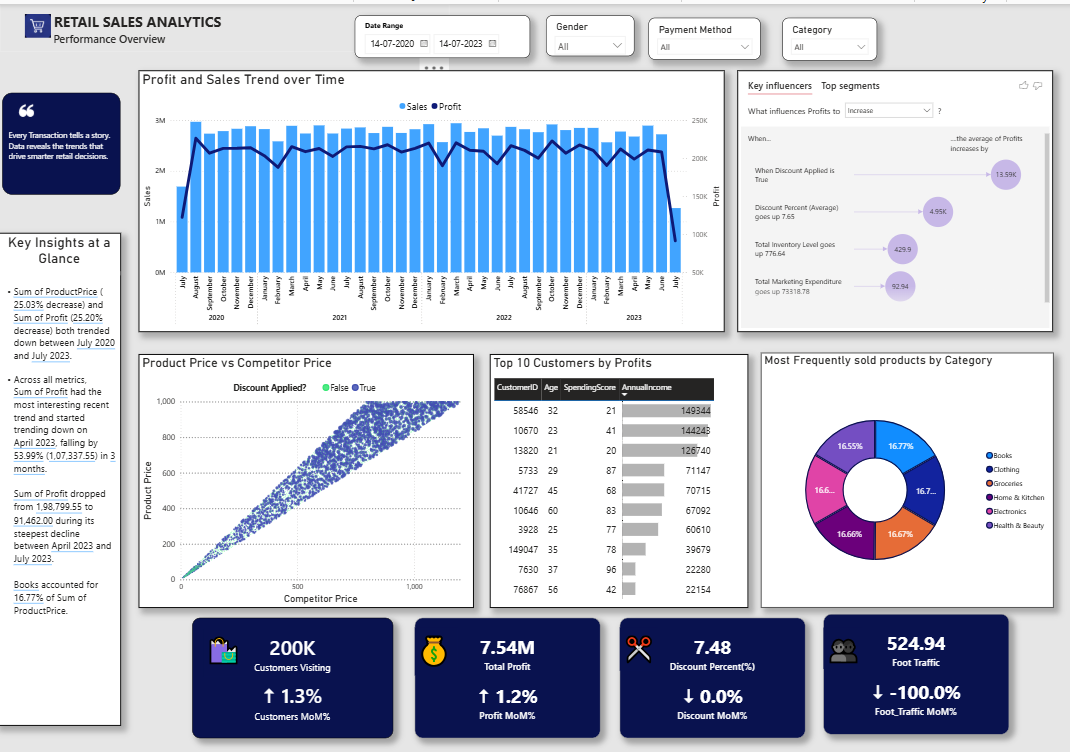

Layout of this report page (visuals, bound fields, positions):
{"tool":"powerbi","page":{"name":"Page 1","canvas":[1850,1300],"ordinal":0},"visuals":[{"type":"textbox","box":[11.7,151.7,203.3,175],"z":0},{"type":"textbox","box":[7.2,0,773.3,82],"z":1000},{"type":"image","box":[47.1,17.1,49.5,41],"z":2000},{"type":"image","box":[33.3,163.3,38.3,36.7],"z":3000},{"type":"slicer","fields":{"Values":["retail_data[1].PurchaseDate"]},"box":[616.7,18.3,301.7,73.3],"z":4000},{"type":"slicer","fields":{"Values":["retail_data[1].Gender"]},"box":[945,20,151.7,70],"z":5000},{"type":"slicer","fields":{"Values":["retail_data[1].PaymentMethod"]},"box":[1121.7,23.3,193,72.4],"z":6000},{"type":"slicer","fields":{"Values":["retail_data[1].ProductCategory"]},"box":[1351.7,23.3,162.9,73.6],"z":7000},{"type":"lineClusteredColumnComboChart","title":"Profit and Sales Trend over Time","fields":{"Y":["Sum(retail_data[1].ProductPrice)"],"Y2":["Sum(retail_data[1].Profit)"],"Category":["retail_data[1].PurchaseDate.Variation.Date Hierarchy.Year","retail_data[1].PurchaseDate.Variation.Date Hierarchy.Month"]},"box":[245,113.3,1008.3,450],"z":8000},{"type":"donutChart","title":"Most Frequently sold products by Category","fields":{"Y":["Sum(retail_data[1].ProductPrice)"],"Category":["retail_data[1].ProductCategory"]},"box":[1315,600,503.3,438.3],"z":9000},{"type":"scatterChart","title":"Product Price vs Competitor Price","fields":{"X":["retail_data[1].CompetitorPrice"],"Y":["retail_data[1].ProductPrice"],"Size":["Avg(retail_data[1].Profit)"],"Series":["retail_data[1].DiscountApplied"]},"box":[245,601.7,576.7,436.7],"z":10000},{"type":"keyDriversVisual","title":"Top 10 Stores by Profits","fields":{"ExplainBy":["Sum(retail_data[1].MarketingExpenditure)","Avg(retail_data[1].DiscountPercent)","Sum(retail_data[1].InventoryLevel)","retail_data[1].DiscountApplied","retail_data[1].StoreID"],"Target":["retail_data[1].Profit"],"Details":["retail_data[1].ProductCategory"]},"box":[1275,113.3,543.3,450],"z":11000},{"type":"tableEx","title":"Top 10 Customers by Profits","fields":{"Values":["retail_data[1].CustomerID","retail_data[1].Age","retail_data[1].SpendingScore","retail_data[1].AnnualIncome"]},"box":[848.3,601.7,445,436.7],"z":12000},{"type":"textbox","title":"Key Insights at a Glance","box":[0,393.3,215,848.3],"z":13000},{"type":"cardVisual","fields":{"Data":["Sum(retail_data[1].Profit)","retail_data[1].Profit MoM%"]},"box":[720.6,1054.4,319,207],"z":14000},{"type":"cardVisual","fields":{"Data":["Avg(retail_data[1].FootTraffic)","retail_data[1].Foot_Traffic MoM%"]},"box":[1422.1,1050,319.1,207.4],"z":15000},{"type":"cardVisual","fields":{"Data":["Avg(retail_data[1].DiscountPercent)","retail_data[1].Discount MoM%"]},"box":[1073.5,1054.4,319,207],"z":16000},{"type":"textbox","box":[720.6,1073.5,73.3,81.7],"z":17000},{"type":"textbox","box":[1073.5,1073.5,64.7,73.5],"z":18000},{"type":"textbox","box":[1422.1,1073.5,66.2,70.6],"z":19000},{"type":"cardVisual","fields":{"Data":["CountNonNull(retail_data[1].CustomerID)","retail_data[1].Customers MoM%"]},"box":[336.8,1054.4,345.6,207.4],"z":19001},{"type":"textbox","box":[357.5,1075,75,82.5],"z":19002}]}

Visuals, with their boxes in screenshot pixels (x1, y1, x2, y2), scaled from the page's 1850x1300 canvas onto the 1070x752 screenshot:
textbox: (7, 88, 124, 189)
textbox: (4, 0, 451, 47)
image: (27, 10, 56, 34)
image: (19, 94, 41, 116)
slicer - retail_data[1].PurchaseDate: (357, 11, 531, 53)
slicer - retail_data[1].Gender: (547, 12, 634, 52)
slicer - retail_data[1].PaymentMethod: (649, 13, 760, 55)
slicer - retail_data[1].ProductCategory: (782, 13, 876, 56)
"Profit and Sales Trend over Time" lineClusteredColumnComboChart: (142, 66, 725, 326)
"Most Frequently sold products by Category" donutChart: (761, 347, 1052, 601)
"Product Price vs Competitor Price" scatterChart: (142, 348, 475, 601)
"Top 10 Stores by Profits" keyDriversVisual: (737, 66, 1052, 326)
"Top 10 Customers by Profits" tableEx: (491, 348, 748, 601)
"Key Insights at a Glance" textbox: (0, 228, 124, 718)
cardVisual - Sum(retail_data[1].Profit) x retail_data[1].Profit MoM%: (417, 610, 601, 730)
cardVisual - Avg(retail_data[1].FootTraffic) x retail_data[1].Foot_Traffic MoM%: (823, 607, 1007, 727)
cardVisual - Avg(retail_data[1].DiscountPercent) x retail_data[1].Discount MoM%: (621, 610, 805, 730)
textbox: (417, 621, 459, 668)
textbox: (621, 621, 658, 663)
textbox: (823, 621, 861, 662)
cardVisual - CountNonNull(retail_data[1].CustomerID) x retail_data[1].Customers MoM%: (195, 610, 395, 730)
textbox: (207, 622, 250, 670)
